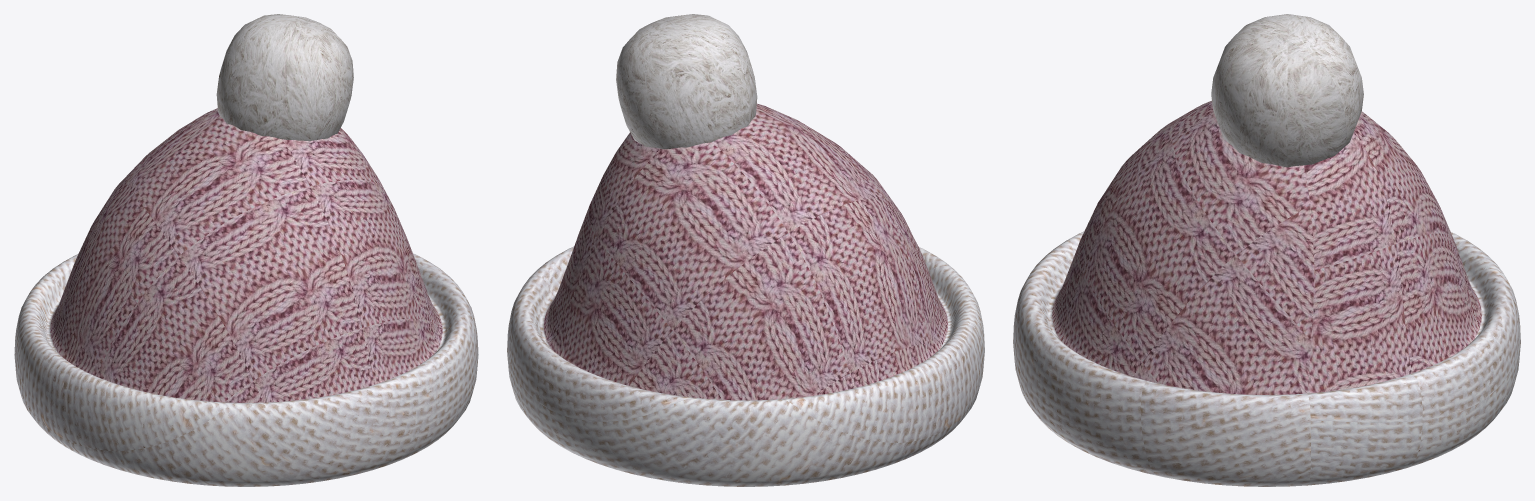
The model's file is knittedhat_textured.FBX.
3 renders of one model, left to right at view 1: azimuth 30°, elevation 25°; view 2: azimuth 150°, elevation 25°; view 3: azimuth 270°, elevation 25°, orthographic. The views are drawn at different scales.
Parts seen in each view (by area): view 1: KnittedHat; view 2: KnittedHat; view 3: KnittedHat.
Part boxes in pixels (x1=…): KnittedHat: x1=14, y1=14, x2=478, y2=486; KnittedHat: x1=507, y1=14, x2=984, y2=486; KnittedHat: x1=1013, y1=14, x2=1520, y2=486.
Bounding box in the file's own units: 42.79 × 36.5 × 42.79.
Materials: 3 (3 with a texture image).
